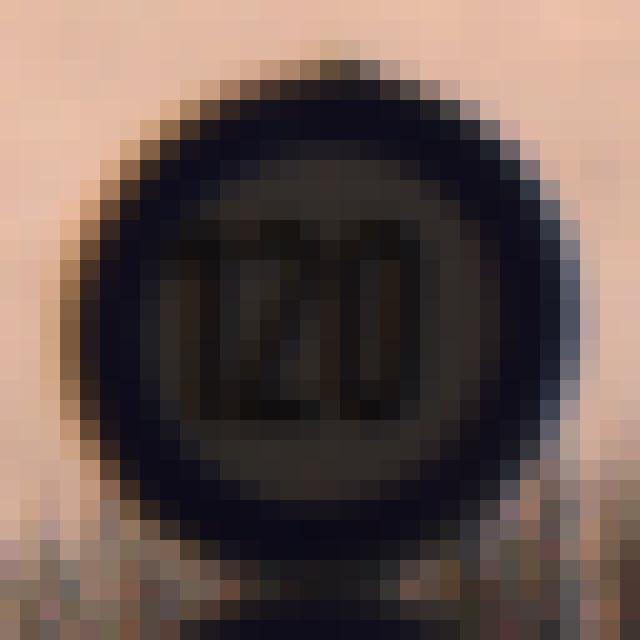SPEED LIMIT 120: (51, 55, 580, 567)
